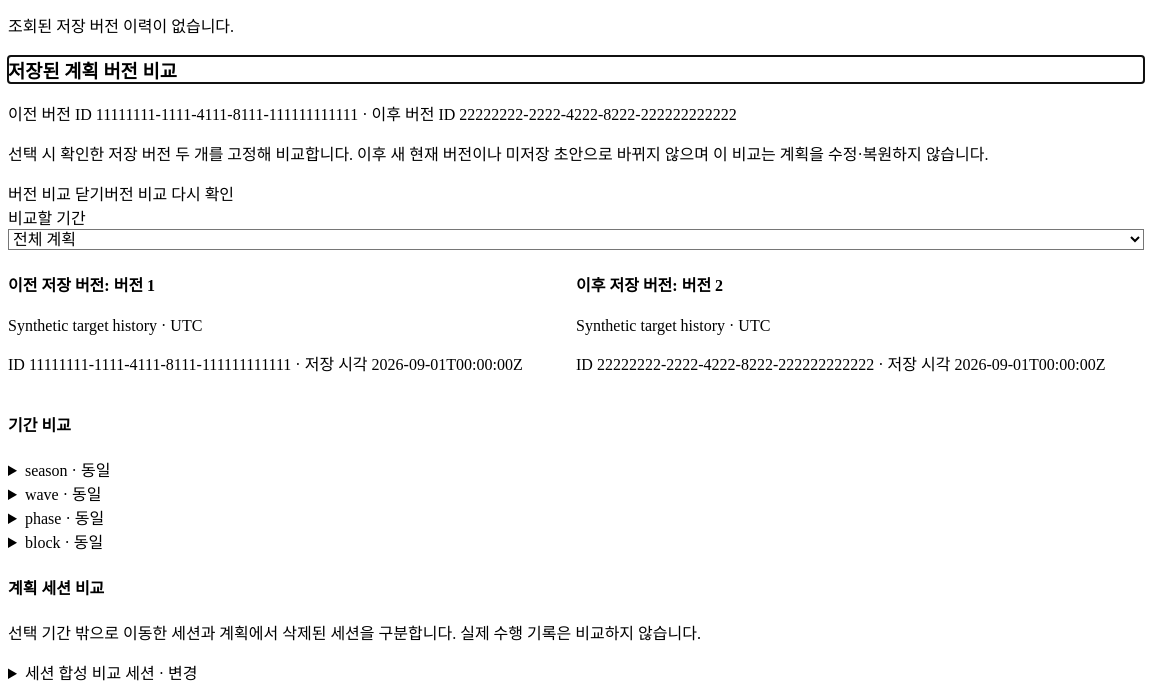
it: session pace and HR immutable history display › compares legacy absence against explicit 300.125–360.25 초/km / 120–150 bpm without changing the source snapshots
The width and height of the screenshot is (1152, 692).
(page scrolled)
Click the heading "세션 합성 비교 세션 · 변경": (111, 673) [25,665,198,682]
(page scrolled)
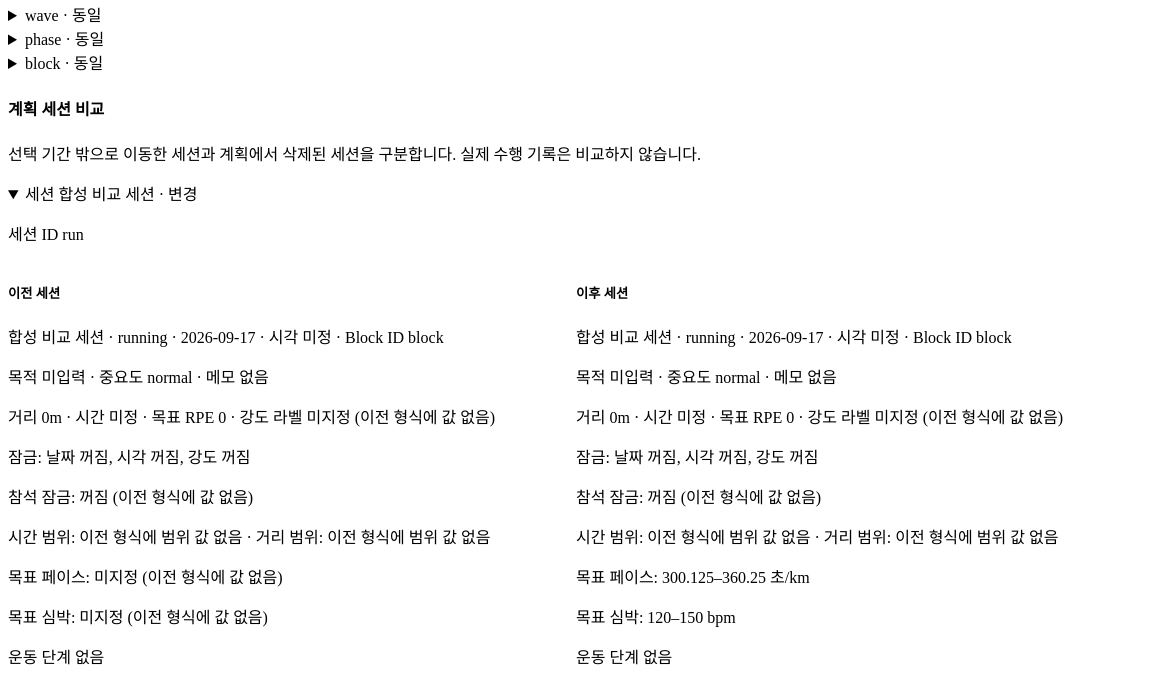
expect the text "목표 페이스: 미지정 (이전 형식에 값 없음)" is shown: met, box [8,569,283,586]
expect the text "목표 심박: 미지정 (이전 형식에 값 없음)" is shown: met, box [8,609,268,626]
expect the element "이후 세션" shows "목표 RPE 0": met, box [576,261,1144,684]
